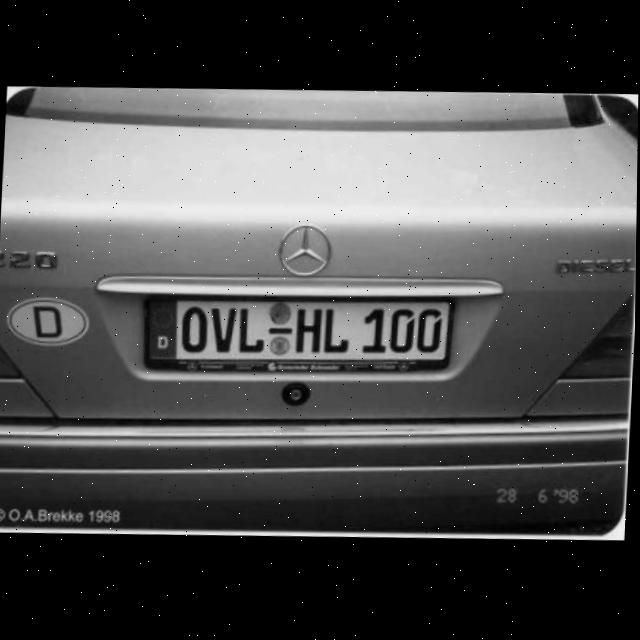license-plates: (144, 298, 453, 371)
